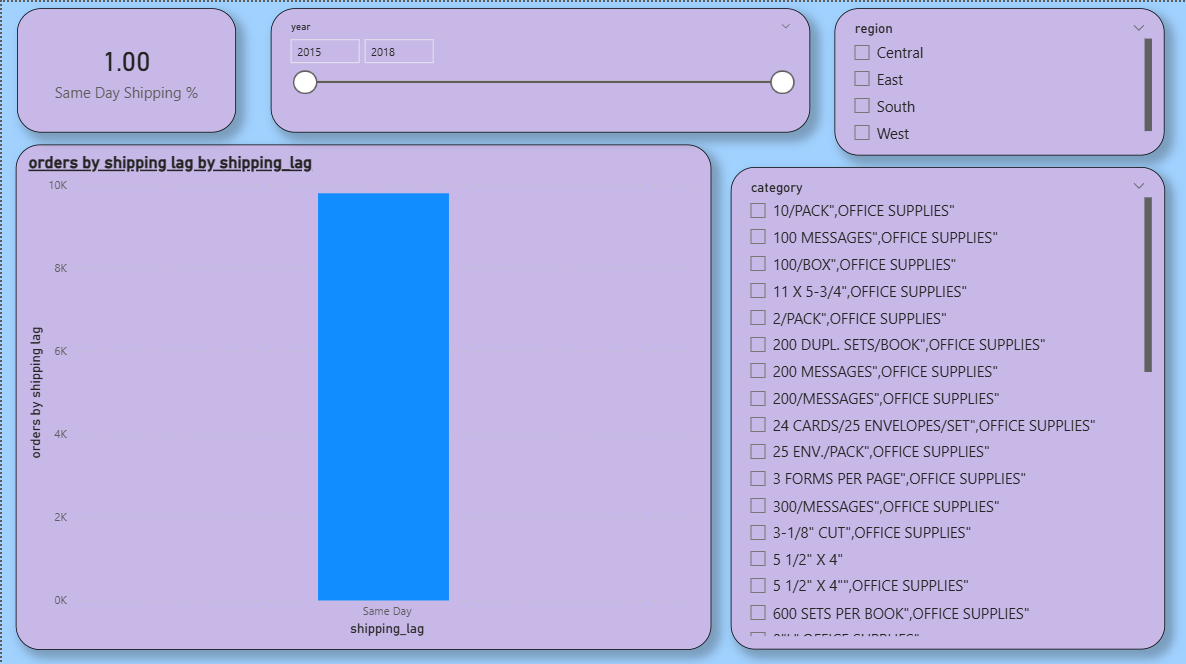

This screenshot's page, from the dashboard's own definition file:
{"tool":"powerbi","page":{"name":"logistics and shipping performance","canvas":[1280,720],"ordinal":3},"visuals":[{"type":"columnChart","fields":{"Y":["dim_customer.orders by shipping lag"],"Category":["fact_sales.shipping_lag"]},"box":[15.1,153.7,752,546.1],"z":0},{"type":"card","fields":{"Values":["dim_customer.Same Day Shipping %"]},"box":[15.7,7.1,237.1,134.3],"z":1},{"type":"slicer","fields":{"Values":["dim_date.year"]},"box":[290.9,6.9,583.2,134.5],"z":2},{"type":"slicer","fields":{"Values":["dim_region.region"]},"box":[900.2,6.9,356.8,159.2],"z":3},{"type":"slicer","fields":{"Values":["dim_product.category"]},"box":[787.7,178.4,469.3,521.4],"z":4}]}

Visuals, with their boxes in screenshot pixels (x1, y1, x2, y2), scaled from the page's 1280x720 canvas onto the 1186x664 screenshot:
columnChart - dim_customer.orders by shipping lag x fact_sales.shipping_lag: region(14, 142, 711, 645)
card - dim_customer.Same Day Shipping %: region(15, 7, 234, 130)
slicer - dim_date.year: region(270, 6, 810, 130)
slicer - dim_region.region: region(834, 6, 1165, 153)
slicer - dim_product.category: region(730, 165, 1165, 645)
